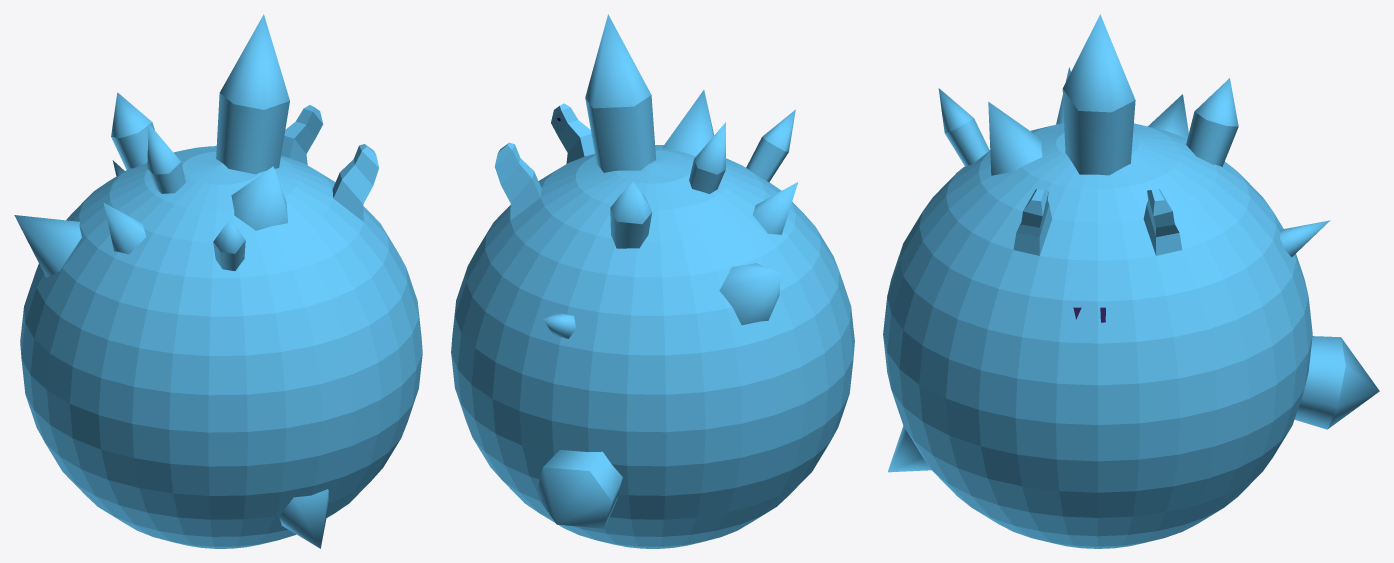
File: Crystal Slime.fbx
The picture shows the model from 3 angles, left to right: view 1: azimuth 30°, elevation 25°; view 2: azimuth 150°, elevation 25°; view 3: azimuth 270°, elevation 25°; orthographic projection. The views are drawn at different scales.
Parts seen in each view (by area): view 1: pCylinder6; view 2: pCylinder6; view 3: pCylinder6.
Part boxes in pixels (<box>): pCylinder6: <box>14,14,422,548</box>; pCylinder6: <box>451,14,854,548</box>; pCylinder6: <box>883,14,1379,548</box>.
Size of the model in its own units: 228 by 315 by 263.
